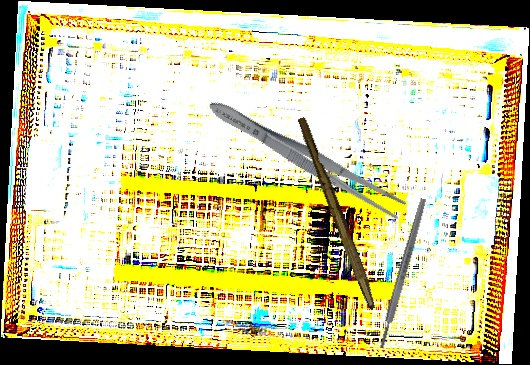Dressing Forceps: (202, 92, 411, 224)
Scalpel Handle: (292, 116, 383, 310), (376, 197, 429, 350)
